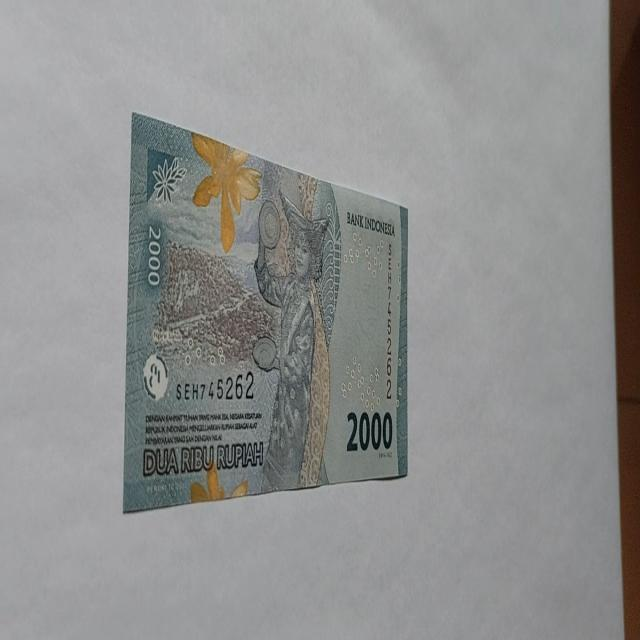dua ribu rupiah: (123, 114, 410, 512), (252, 186, 333, 494), (190, 130, 262, 253)
